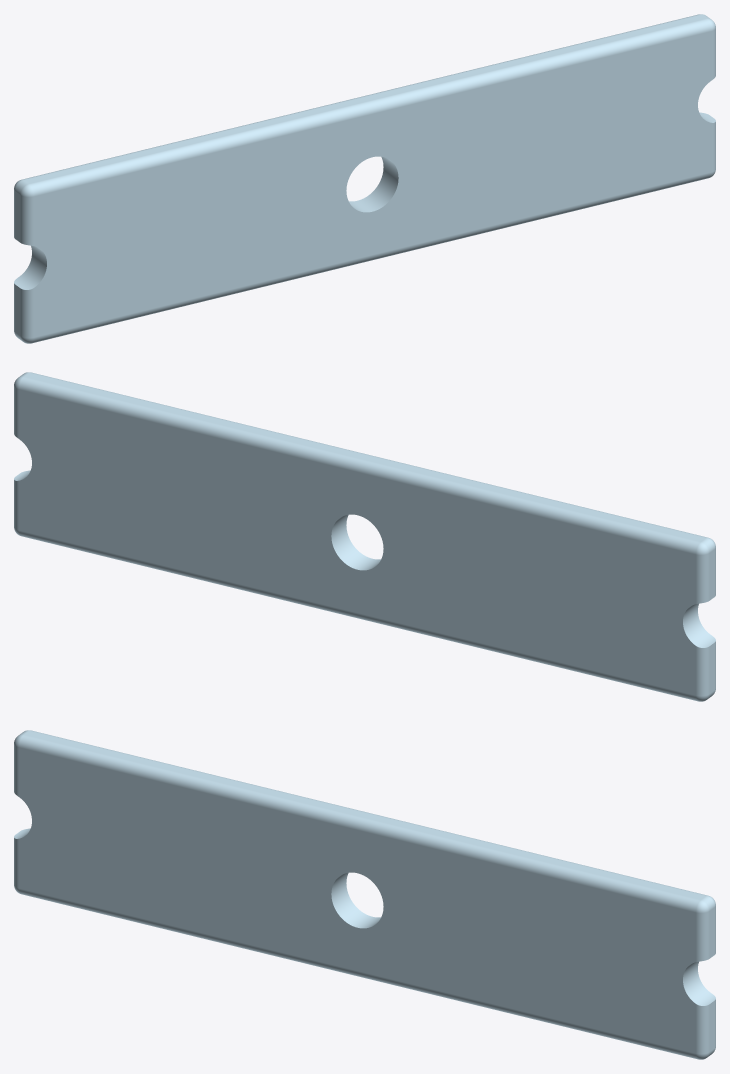
3 renders of one model, top to bottom at view 1: azimuth 30°, elevation 25°; view 2: azimuth 150°, elevation 25°; view 3: azimuth 330°, elevation 25°, orthographic.
Parts seen in each view (by area): view 1: Part 1; view 2: Part 1; view 3: Part 1.
Part boxes in pixels (x1,y1,x2,y2): Part 1: [14, 14, 715, 343]; Part 1: [14, 372, 715, 701]; Part 1: [14, 730, 715, 1059].
Bounding box in the file's own units: 0.16 × 0.035 × 0.006.
